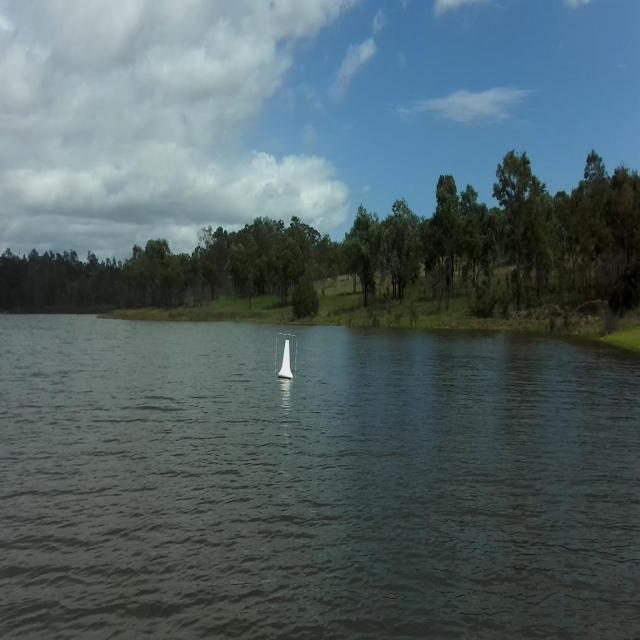White_Buoy: (274, 335, 298, 380)
